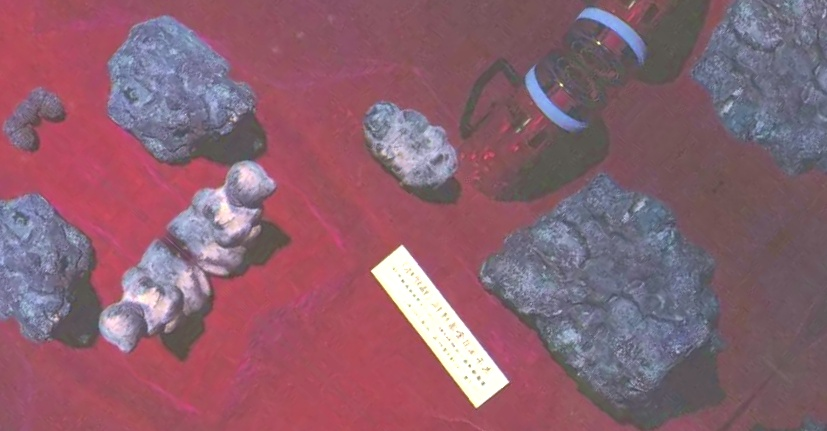halobolite: (469, 192, 736, 409), (113, 21, 272, 170), (700, 1, 827, 178), (1, 185, 101, 361), (370, 93, 464, 214), (1, 83, 83, 163)
